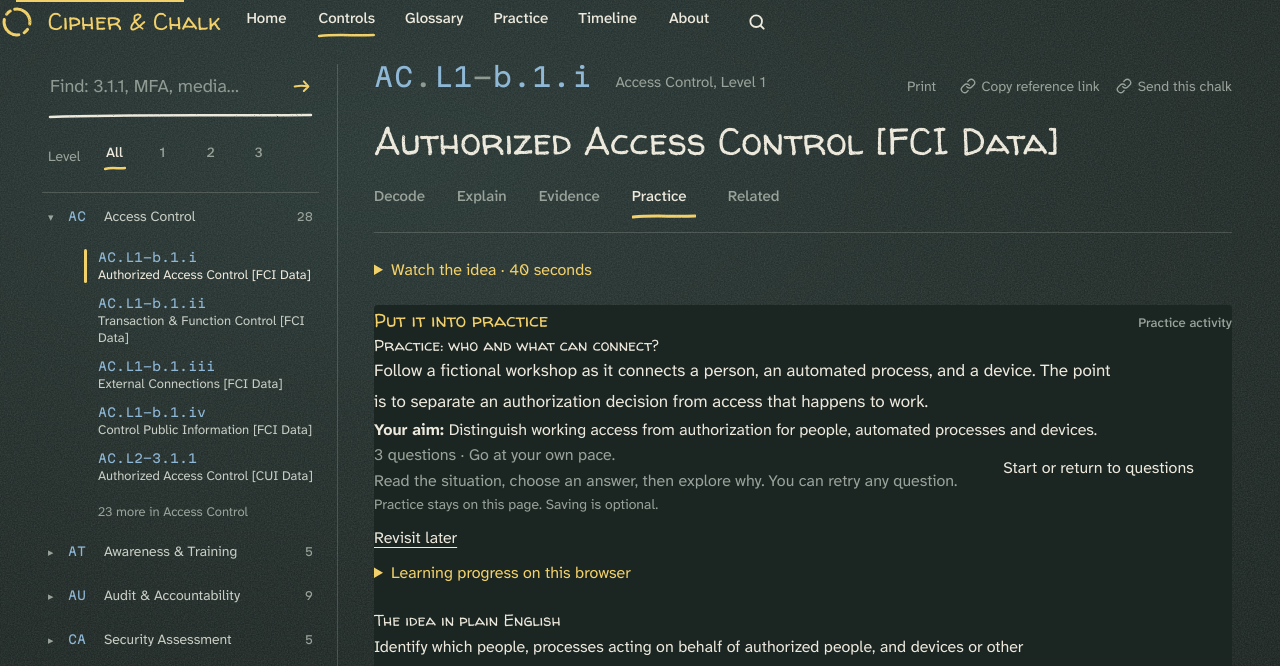
Control views › offers its views and keeps the practice on its own view for level-one-authorized-access
This screenshot has width=1280, height=666.
Expected: the heading "Authorized Access Control [FCI Data]" is shown, [374, 115, 1059, 167]
Expected: the heading "Practice: who and what can connect?" is shown, [374, 335, 659, 355]
Click the link "Decode".
click(399, 196)  # box [374, 186, 425, 206]
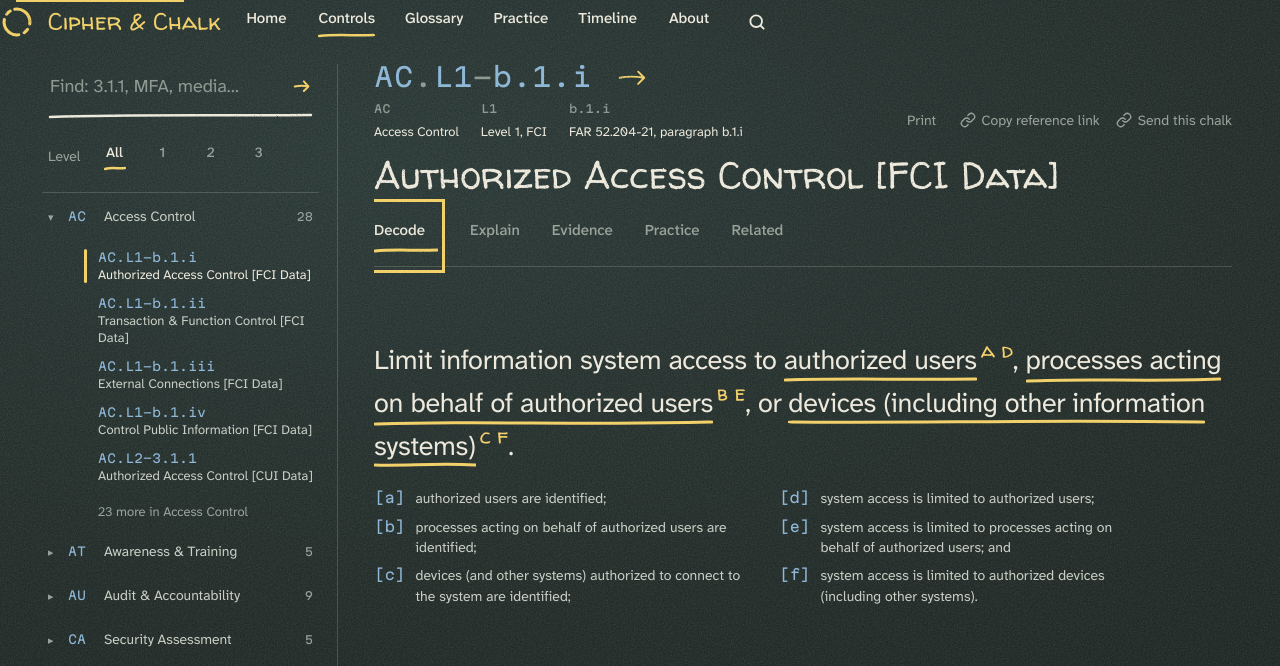
Expected: the heading "Practice: who and what can connect?" is gone
